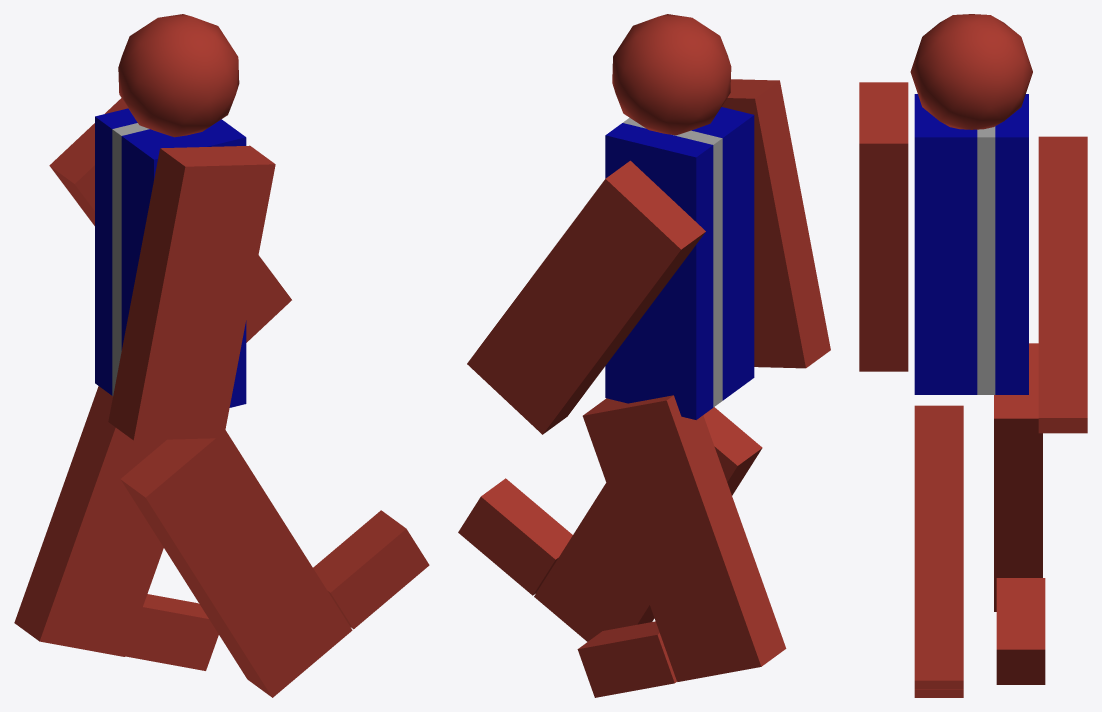
File: player_000029.obj
3 renders of one model, left to right at view 1: azimuth 30°, elevation 25°; view 2: azimuth 150°, elevation 25°; view 3: azimuth 270°, elevation 25°, orthographic. The views are drawn at different scales.
Visible parts, largest first — view 1: Cube.005, Cube.001, Cube.002, Cube, Icosphere, Cube.003, Cube.004, Cube.006; view 2: Cube.002, Cube, Cube.006, Cube.005, Cube.001, Icosphere, Cube.003, Cube.004; view 3: Cube, Cube.006, Cube.005, Cube.001, Icosphere, Cube.002, Cube.004, Cube.003.
Part boxes in pixels (left/top/right/bottom): Cube.005: left=108, top=145, right=275, bottom=440; Cube.001: left=120, top=430, right=352, bottom=697; Cube.002: left=14, top=386, right=166, bottom=656; Cube: left=95, top=108, right=246, bottom=407; Icosphere: left=118, top=14, right=239, bottom=137; Cube.003: left=313, top=510, right=429, bottom=629; Cube.004: left=125, top=594, right=218, bottom=670; Cube.006: left=49, top=98, right=291, bottom=342; Cube.002: left=582, top=395, right=786, bottom=681; Cube: left=605, top=107, right=754, bottom=419; Cube.006: left=467, top=160, right=705, bottom=434; Cube.005: left=721, top=79, right=830, bottom=368; Cube.001: left=534, top=407, right=762, bottom=641; Icosphere: left=612, top=14, right=731, bottom=135; Cube.003: left=458, top=478, right=572, bottom=595; Cube.004: left=577, top=621, right=676, bottom=697; Cube: left=914, top=94, right=1028, bottom=394; Cube.006: left=1038, top=136, right=1087, bottom=433; Cube.005: left=859, top=82, right=908, bottom=371; Cube.001: left=914, top=405, right=963, bottom=697; Icosphere: left=910, top=14, right=1032, bottom=129; Cube.002: left=994, top=343, right=1042, bottom=611; Cube.004: left=996, top=578, right=1045, bottom=684; Cube.003: left=914, top=629, right=963, bottom=688.
Bounding box in the file's own units: 1.56 × 2.87 × 0.9137.
